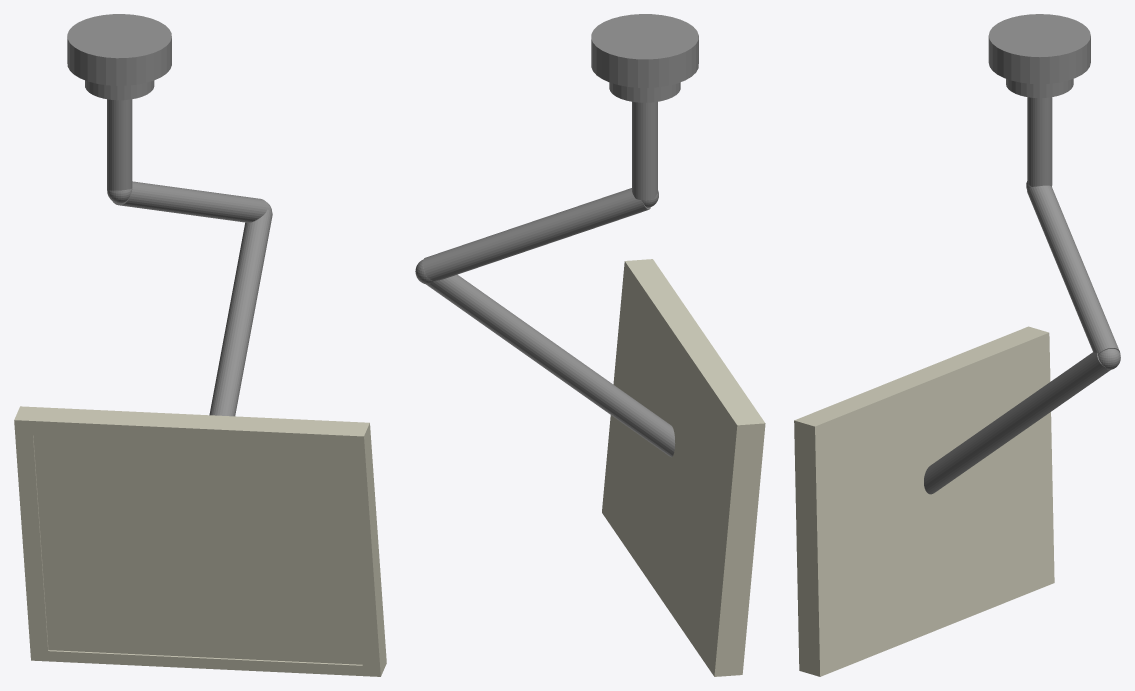
File: pantalla.fbx
3 renders of one model, left to right at view 1: azimuth 30°, elevation 25°; view 2: azimuth 150°, elevation 25°; view 3: azimuth 270°, elevation 25°, orthographic. The views are drawn at different scales.
Parts seen in each view (by area): view 1: Pantalla, Monitor, Brazo; view 2: Monitor, Brazo; view 3: Monitor, Brazo.
Boxes of the visible parts, x1,y1,x2,y2 form: Pantalla: (33,435,362,664); Monitor: (14,406,386,676); Brazo: (67,14,272,416); Monitor: (602,259,765,676); Brazo: (415,14,698,457); Monitor: (794,326,1054,676); Brazo: (924,14,1120,494).
Bounding box in the file's own units: 269 × 518 × 262.
